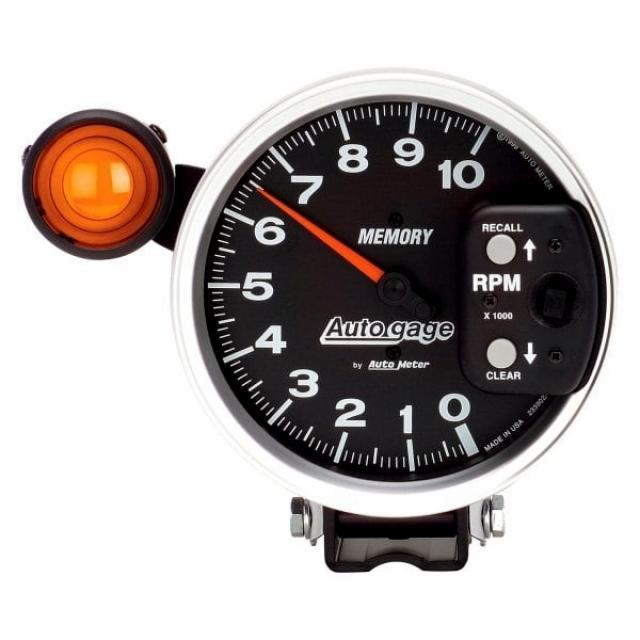Needle_Tip: (247, 170, 290, 224)
Needle_base: (368, 250, 425, 315)
max_value: (429, 133, 502, 217)
min_value: (428, 385, 481, 433)
